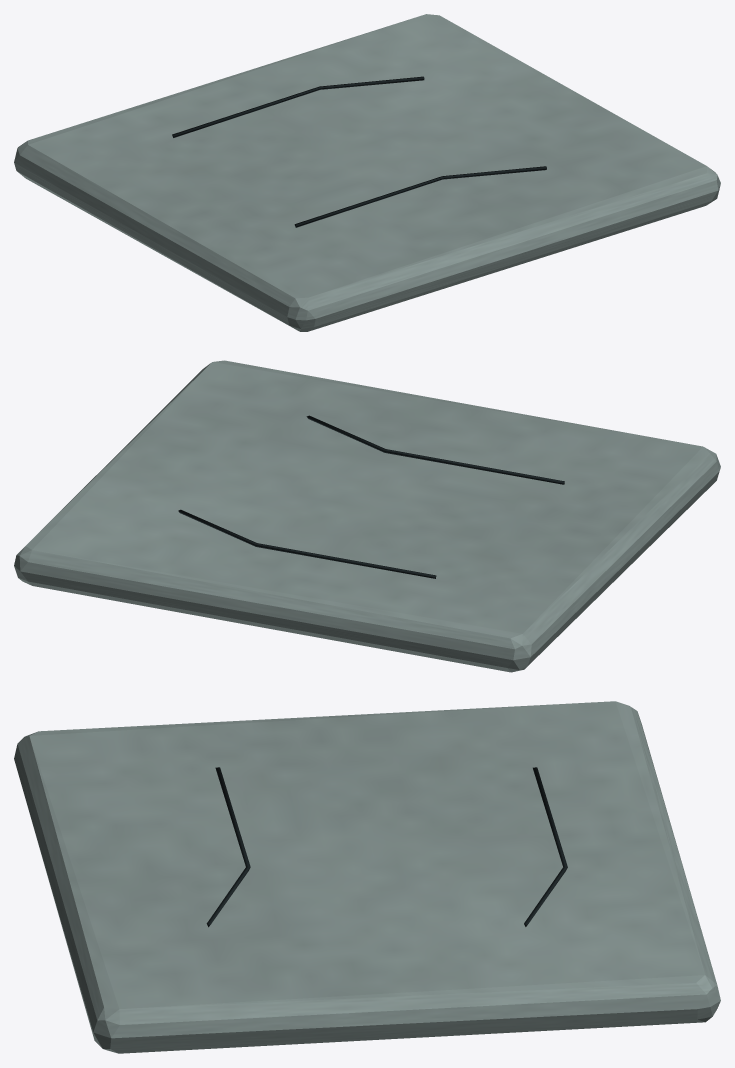
Rendered from SM_lane_paver_LOD1.fbx.
The picture shows the model from 3 angles, top to bottom: view 1: azimuth 30°, elevation 25°; view 2: azimuth 150°, elevation 25°; view 3: azimuth 270°, elevation 25°; orthographic projection. The views are drawn at different scales.
Visible parts, largest first — view 1: SM_lane_paver_LOD1; view 2: SM_lane_paver_LOD1; view 3: SM_lane_paver_LOD1.
Part boxes in pixels (box(x1,y1,x2,y2)): SM_lane_paver_LOD1: box(14, 14, 720, 331); SM_lane_paver_LOD1: box(14, 360, 720, 672); SM_lane_paver_LOD1: box(14, 701, 720, 1053).
Bounding box in the file's own units: 0.8636 × 0.8024 × 0.0652.
